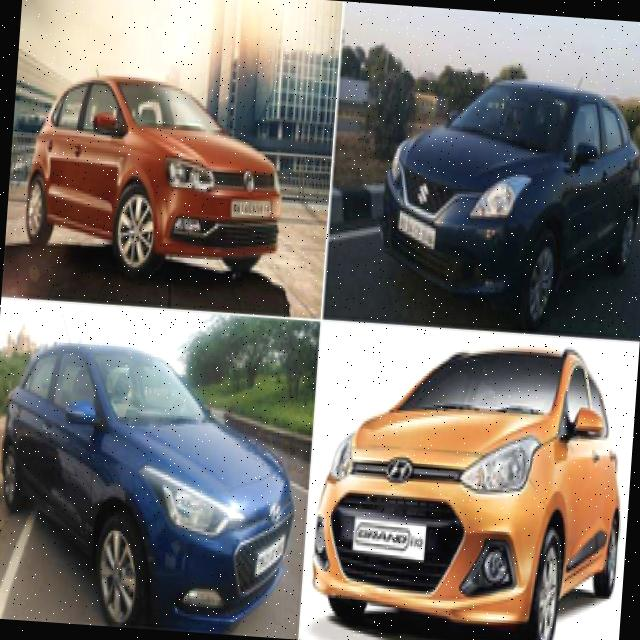Autre: (351, 518, 428, 564), (395, 211, 439, 253), (256, 535, 286, 575), (231, 196, 276, 220)
